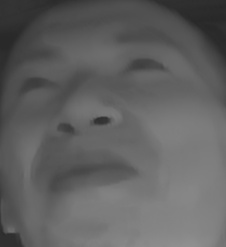eye: (121, 49, 175, 84), (16, 68, 61, 101)
mouth: (38, 150, 136, 198)
